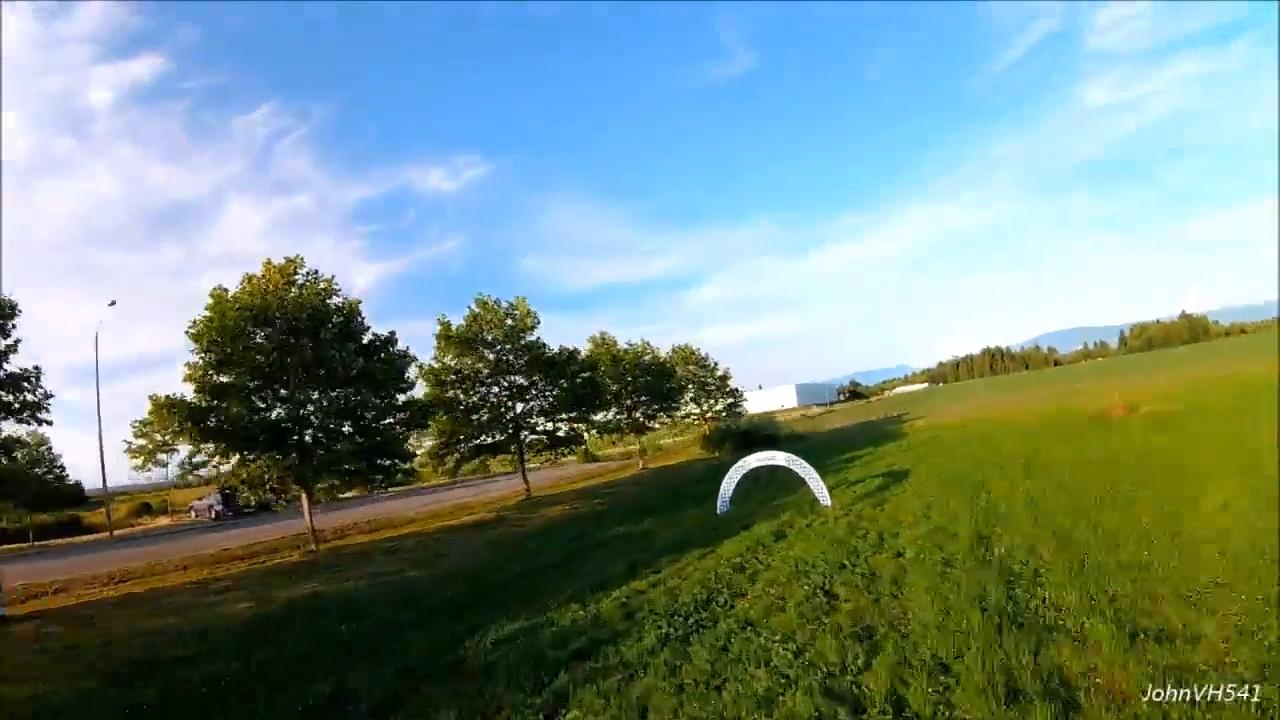gate: (716, 450, 833, 512)
